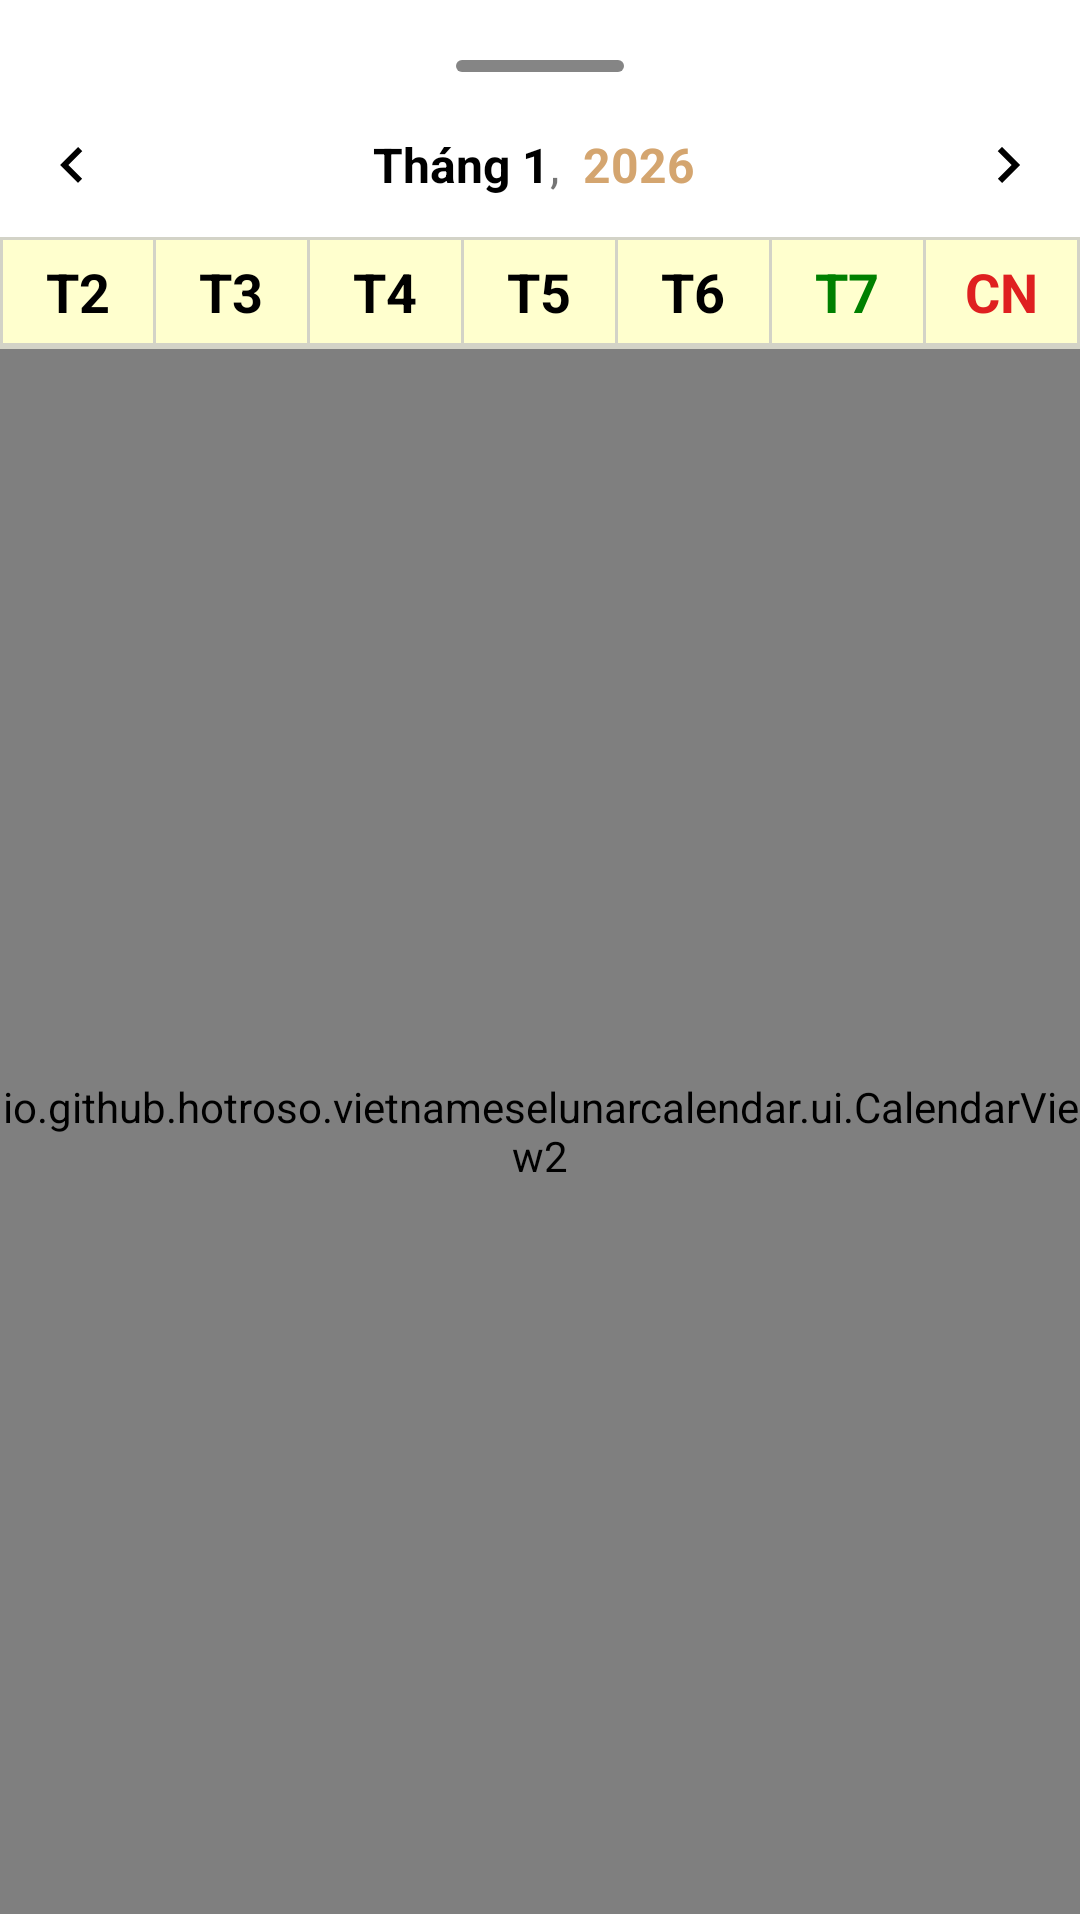

Icon click points for this 1080w x 1920h phone screenshot, format (x=x, y=y):
Tháng sau: (x=1009, y=165)
Tháng trước: (x=71, y=165)
